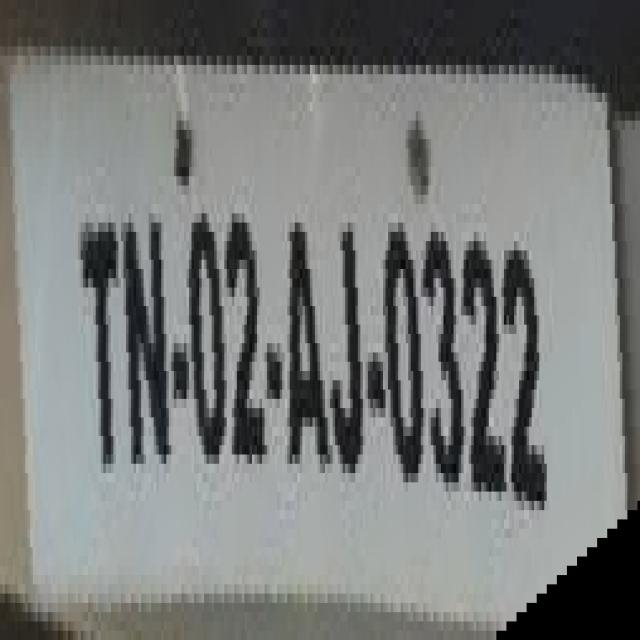license_plate: (5, 9, 600, 594)
